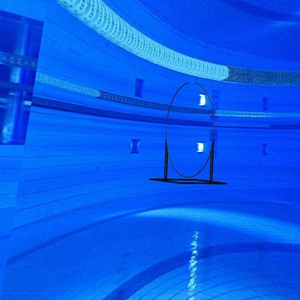circle: (148, 79, 229, 189)
